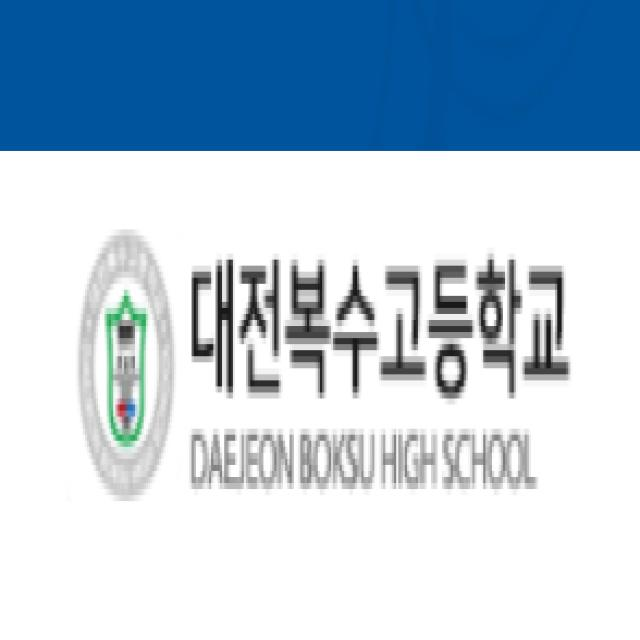logo: (74, 212, 182, 518)
